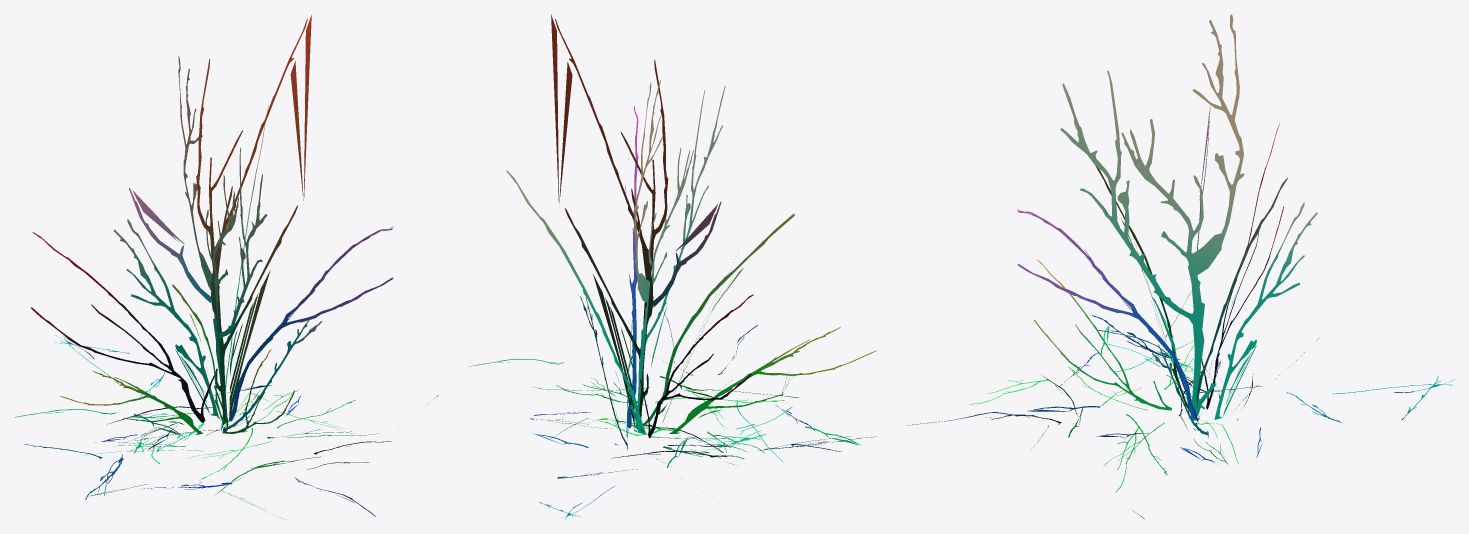
The model's file is Dead_Shrubs_vdknafgha_Raw_vdknafgha_VarB_LOD0.fbx.
3 views of the same model, side by side, from view 1: azimuth 30°, elevation 25°; view 2: azimuth 150°, elevation 25°; view 3: azimuth 270°, elevation 25° (orthographic). The views are drawn at different scales.
Visible parts, largest first — view 1: _nxjt_VarB_High; view 2: _nxjt_VarB_High; view 3: _nxjt_VarB_High.
Boxes of the visible parts, x1,y1,x2,y2 form: _nxjt_VarB_High: [15, 15, 438, 518]; _nxjt_VarB_High: [469, 14, 876, 519]; _nxjt_VarB_High: [907, 14, 1454, 519].
Bounding box in the file's own units: 26.38 × 26.11 × 29.81.
